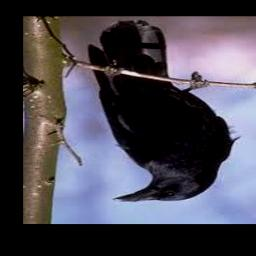Crow: (88, 20, 240, 202)
